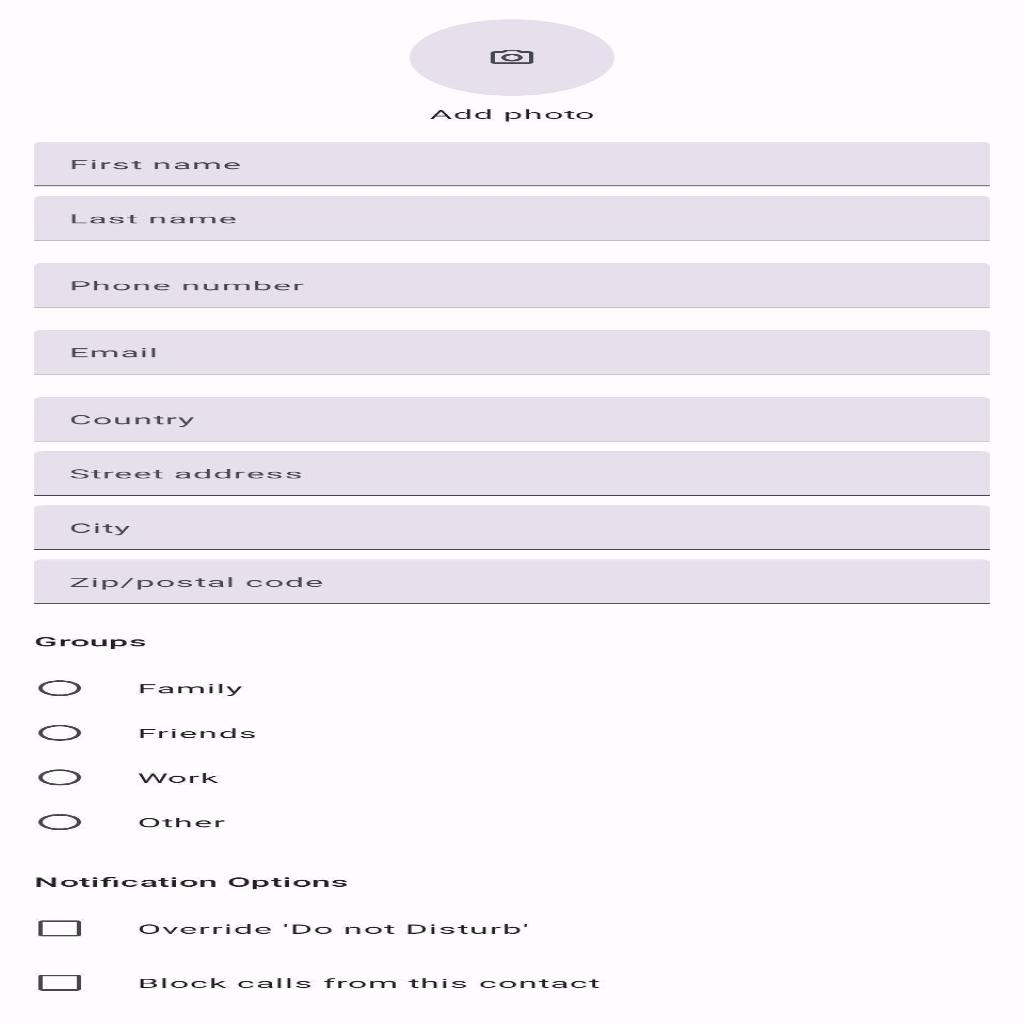checkbox: (36, 972, 86, 994), (35, 918, 84, 938)
input: (25, 394, 995, 444), (24, 262, 982, 308), (32, 503, 989, 549), (29, 558, 992, 602), (42, 196, 988, 240), (43, 140, 981, 184), (29, 453, 995, 494), (42, 331, 984, 372)
label: (120, 967, 616, 998), (135, 912, 544, 940), (29, 872, 376, 896), (413, 101, 626, 123), (125, 675, 263, 700), (25, 630, 178, 650), (131, 719, 270, 741), (125, 764, 242, 789), (139, 810, 242, 836)
radio: (24, 675, 90, 701), (26, 764, 92, 788), (28, 722, 90, 747), (33, 809, 90, 835)
